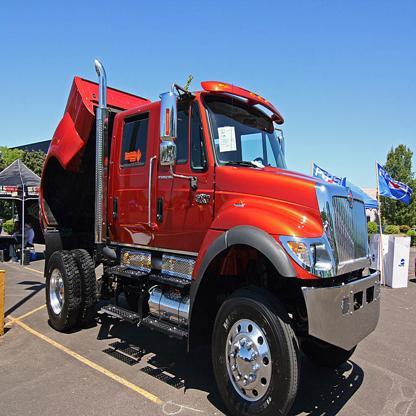fire-truck: (20, 63, 379, 412)
